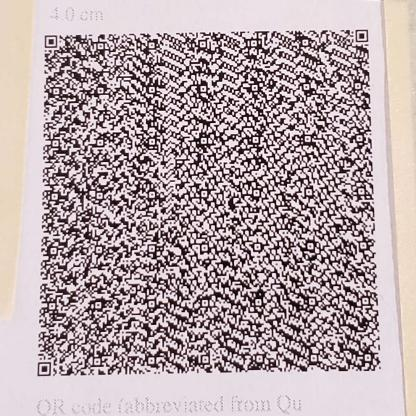qr: (34, 31, 386, 375)
